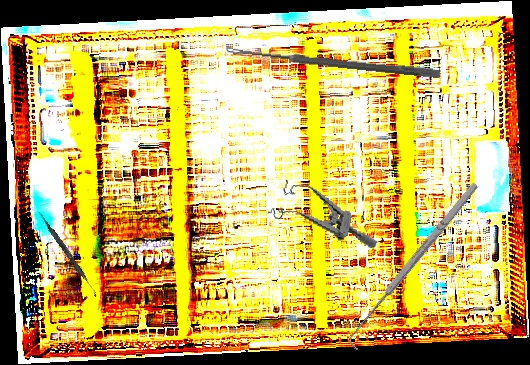Hook Surgical: (342, 180, 486, 351)
Spatula Surgical: (35, 210, 101, 298)
Speculum: (264, 176, 387, 250)
Surgical Spoon: (225, 45, 441, 79)
